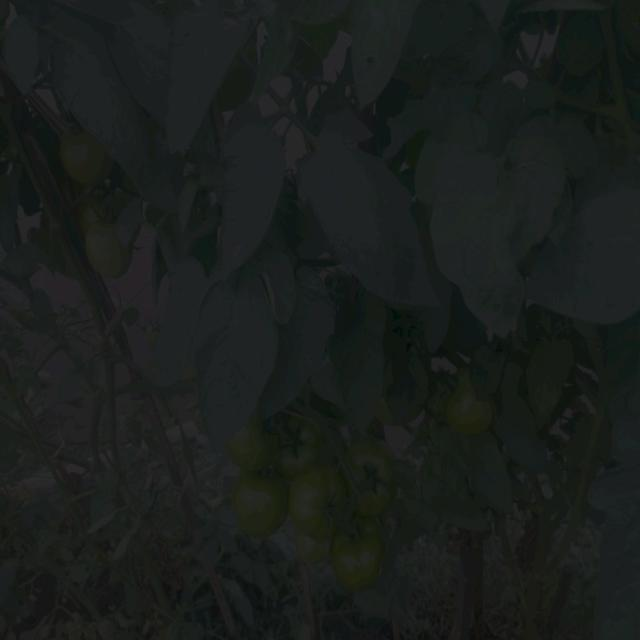tomato: (336, 524, 394, 593), (295, 465, 351, 532), (87, 225, 146, 286), (234, 471, 296, 529), (436, 384, 494, 440), (57, 125, 114, 181), (280, 415, 344, 462), (355, 450, 399, 509), (238, 426, 290, 473), (401, 356, 439, 410), (298, 527, 338, 562), (78, 201, 114, 234)
